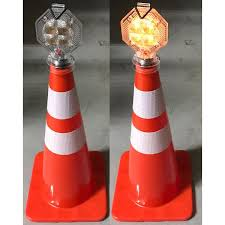cones: (115, 58, 194, 221), (29, 58, 107, 222)
